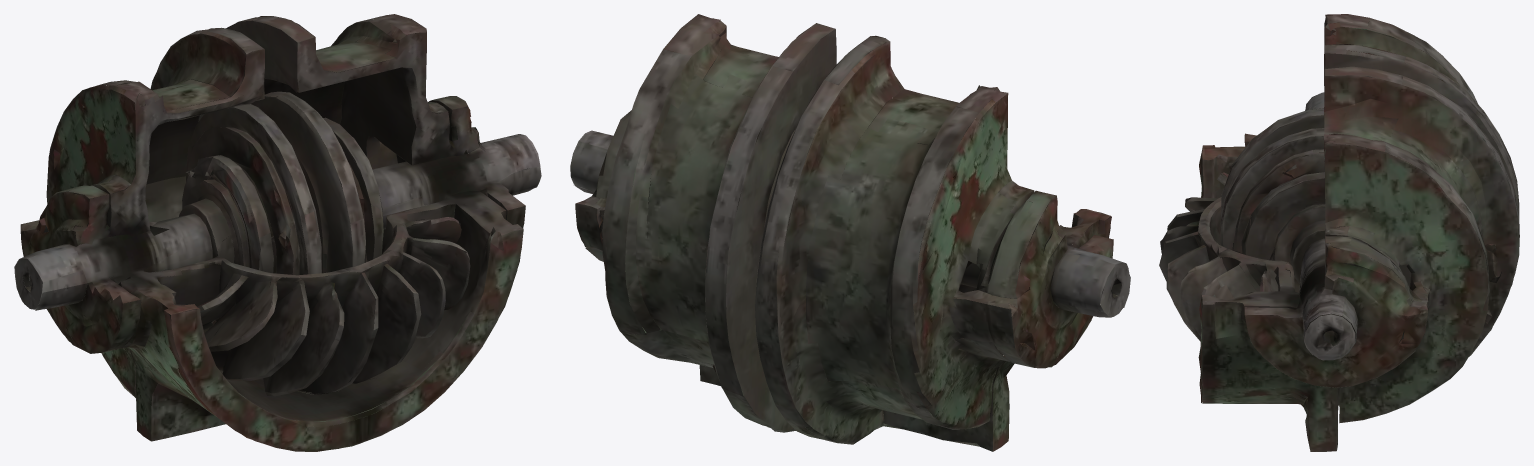
File: rotor_b.glb
3 views of the same model, side by side, from view 1: azimuth 30°, elevation 25°; view 2: azimuth 150°, elevation 25°; view 3: azimuth 270°, elevation 25° (orthographic). The views are drawn at different scales.
Visible parts, largest first — view 1: Mesh_0; view 2: Mesh_0; view 3: Mesh_0.
Part boxes in pixels (bbox=[...]): Mesh_0: bbox=[14, 14, 541, 451]; Mesh_0: bbox=[570, 14, 1130, 451]; Mesh_0: bbox=[1159, 14, 1519, 451].
Bounding box in the file's own units: 1.91 × 1.3 × 1.29.
Materials: 1 (1 with a texture image).
